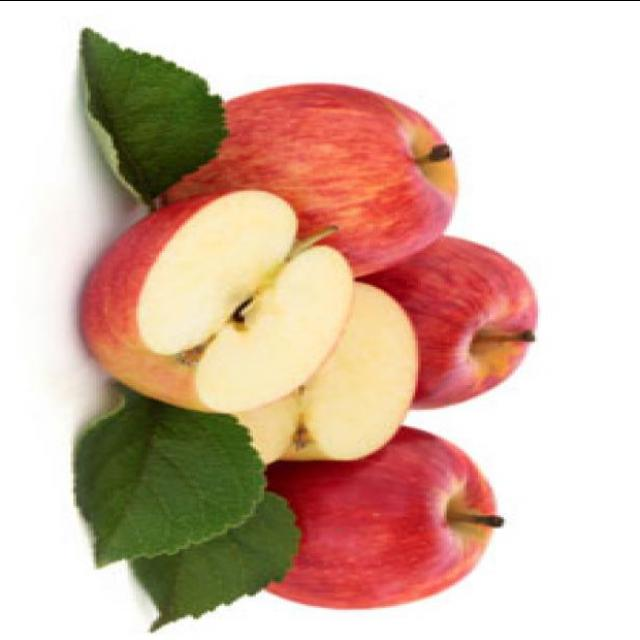apple: (152, 74, 466, 282), (190, 418, 507, 614), (274, 220, 544, 411)
